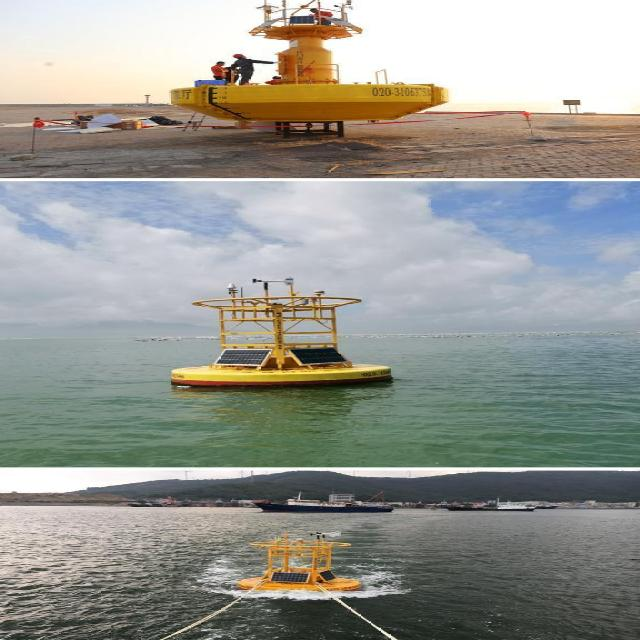buoy: (153, 0, 454, 127), (163, 275, 409, 390), (200, 534, 382, 595)
